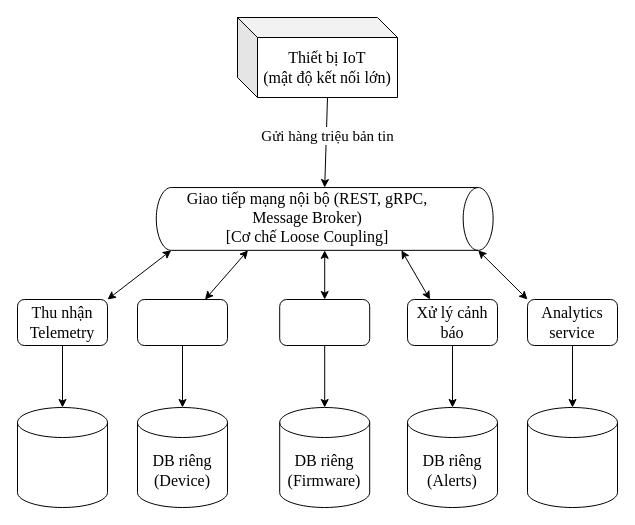
This 635x525 diagram has some shape labels left out. Each missing label, with the centre of its shape:
DB riêng (Analytics): point 572,457
DB riêng (Telemetry): point 62,457
OTA service: point 324,322
Quản trị thiết bị: point 182,322
